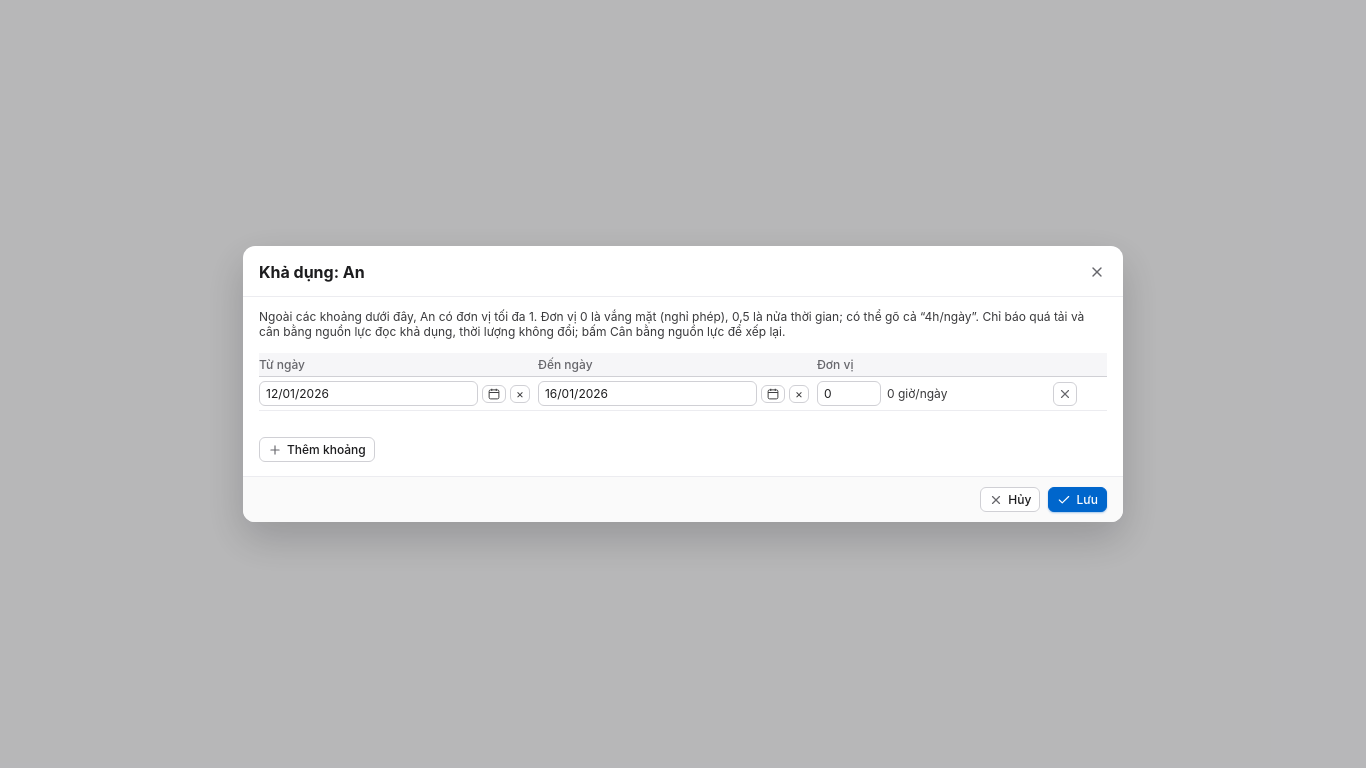
Scenario: ResourceAvailabilityDialog › puts back units it cannot read
Replace the text in the field named "Đơn vị, khoảng 1" with "nhiều": (849, 394) [817, 381, 881, 406]
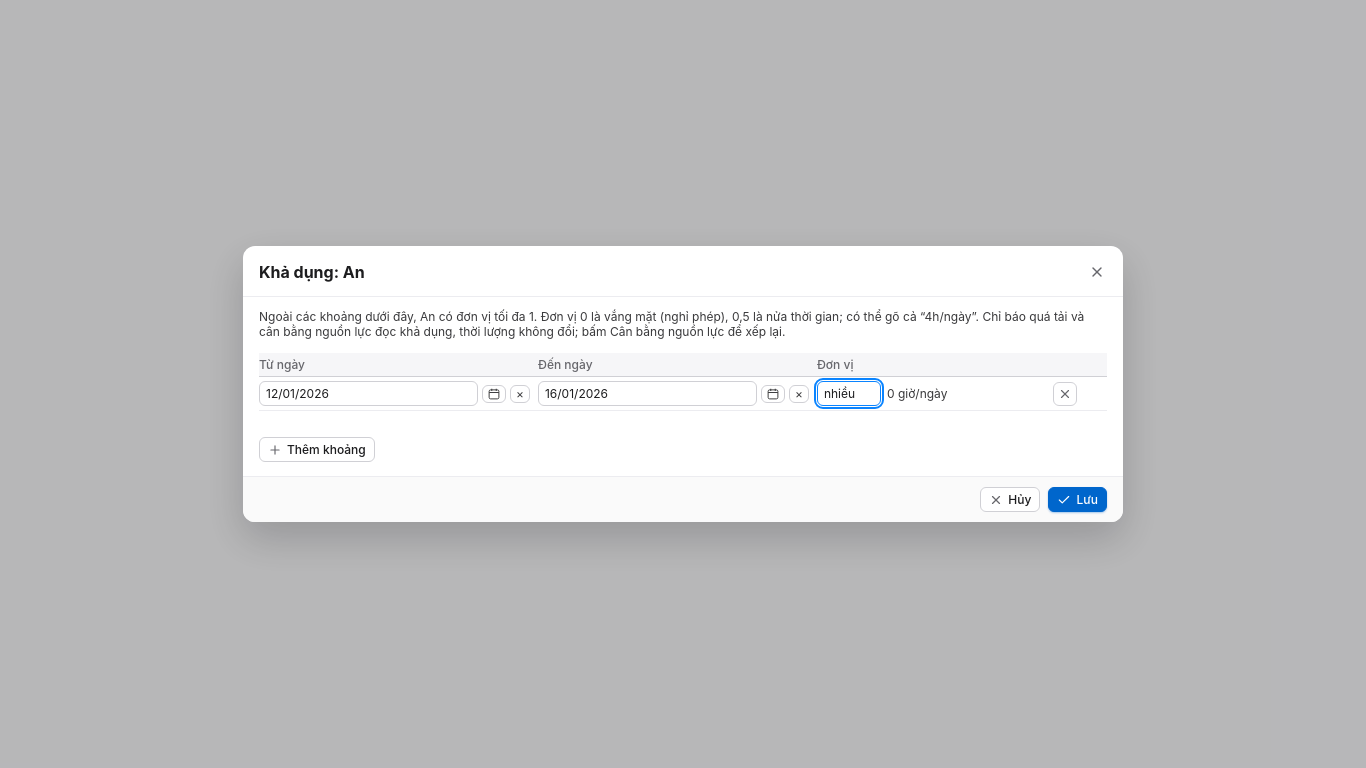
Press Tab
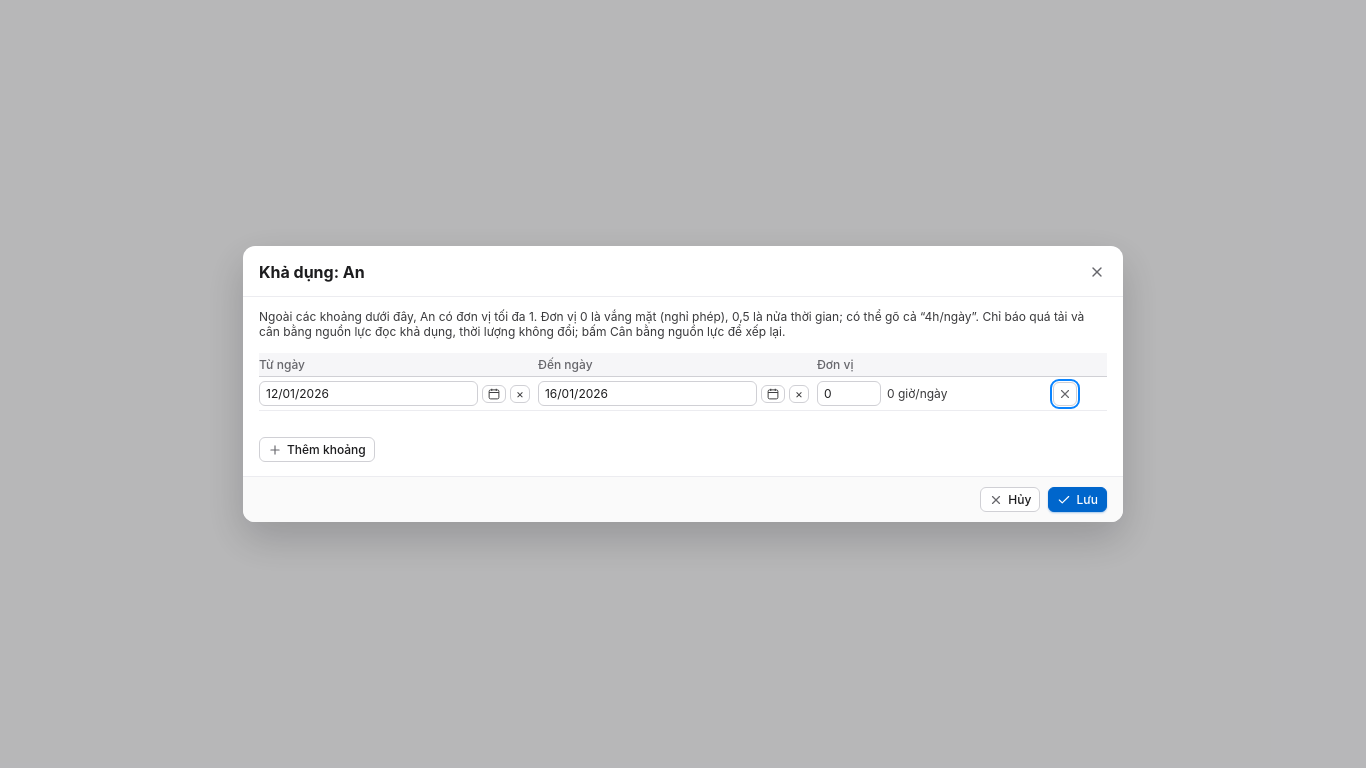
Now the field named "Đơn vị, khoảng 1" holds "0", box [817, 381, 881, 406]
